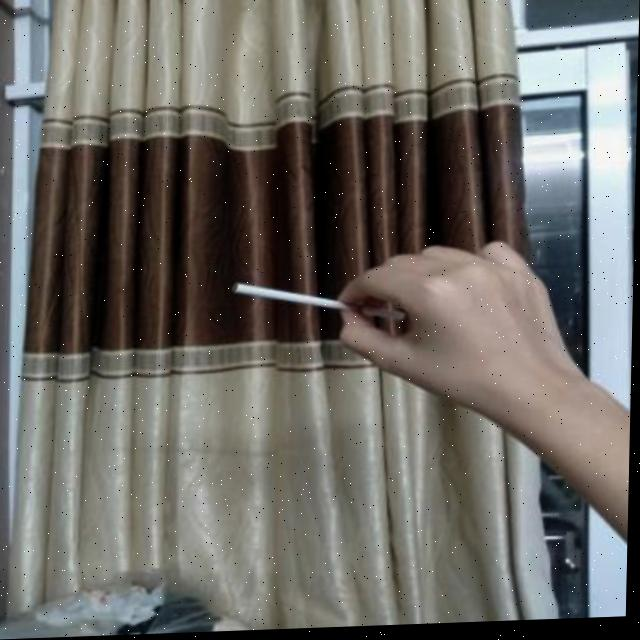cigarette: (231, 279, 408, 330)
